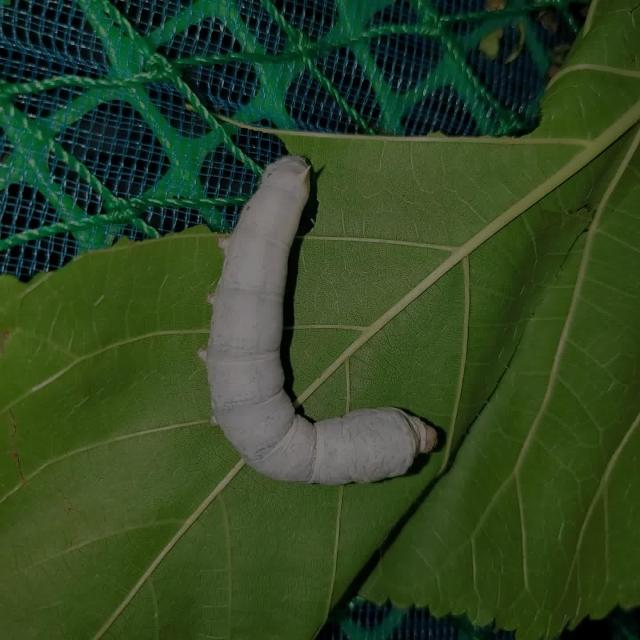Healthy: (175, 125, 457, 521)
